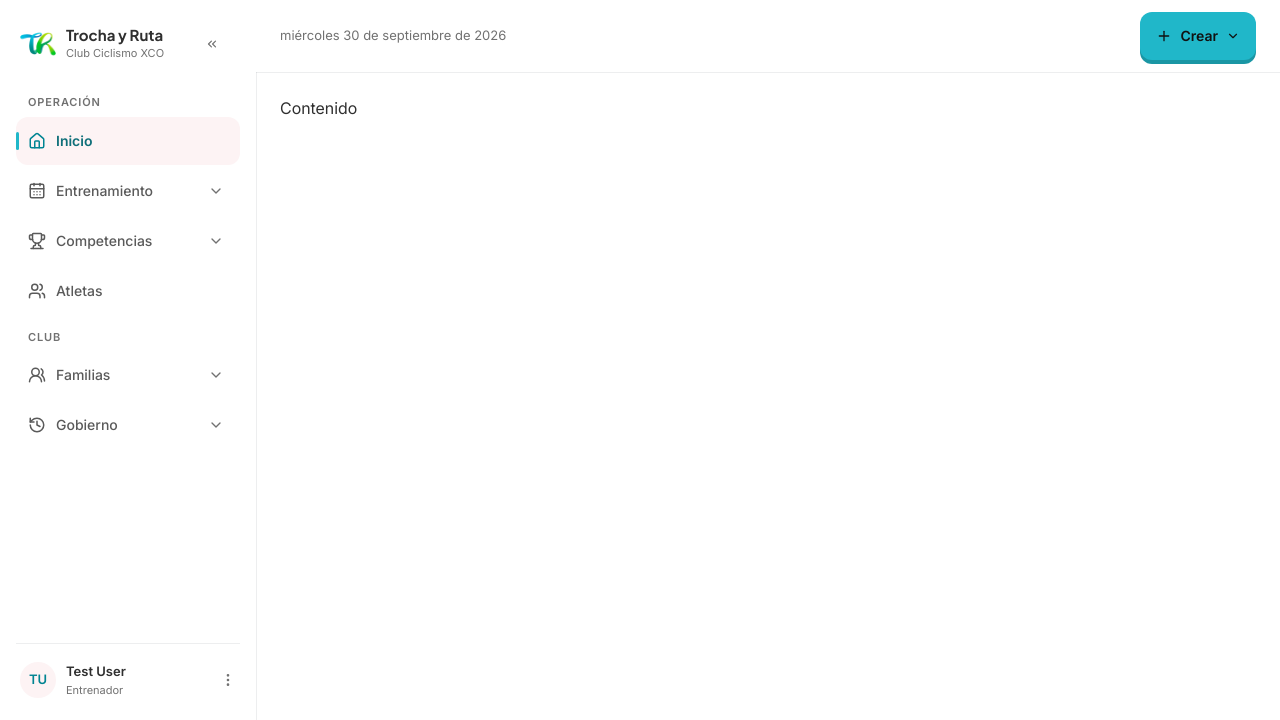
AppShell › accesibilidad (jest-axe) › sin violaciones axe con un grupo del sidebar expandido (coach, 'Familias' abierto)
The image size is (1280, 720).
Click the button named "Expandir Familias": point(216, 375) [192, 351, 240, 399]
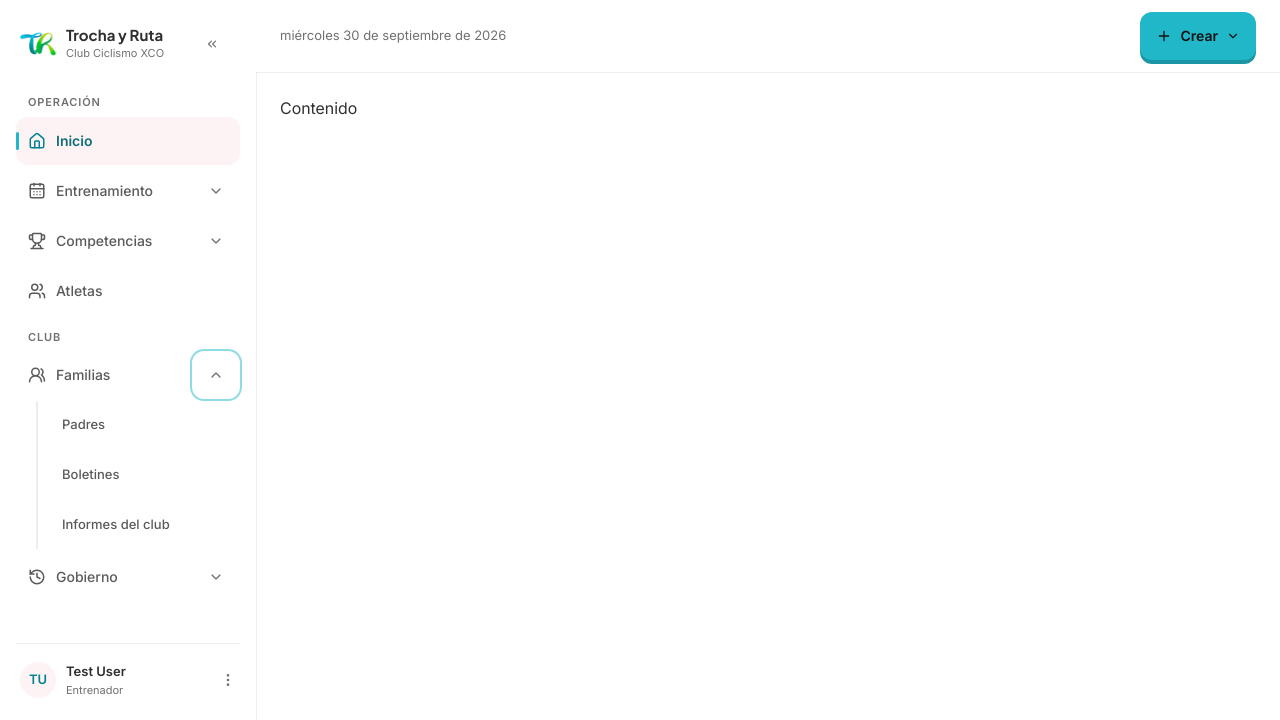
expect the link "Padres" is shown: met, box [62, 416, 105, 432]
